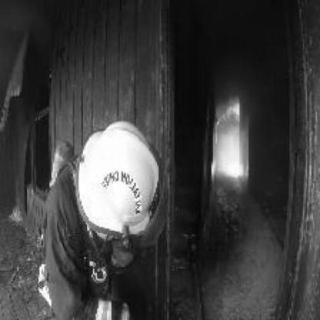Fire: (207, 81, 257, 189)
